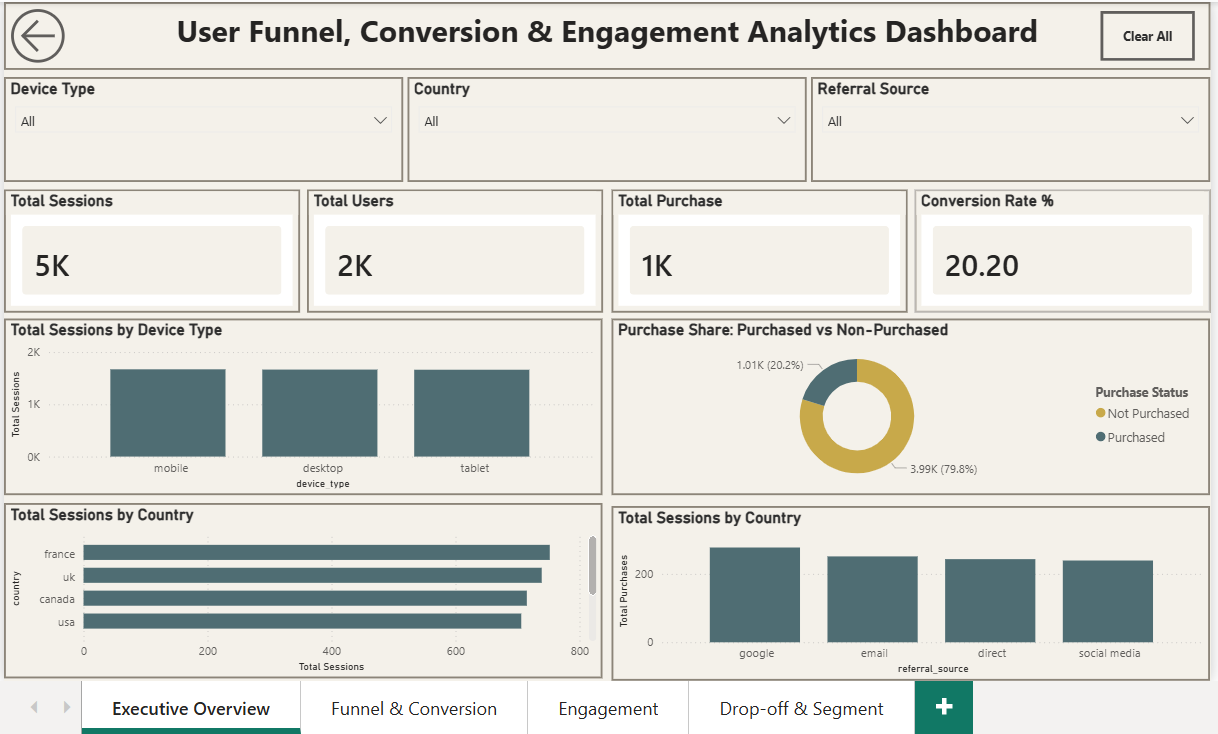

The page's visual inventory and layout, read from the dashboard file:
{"tool":"powerbi","page":{"name":"Executive Overview","canvas":[1280,720],"ordinal":0},"visuals":[{"type":"textbox","box":[0,0,1279.4,71.8],"z":0},{"type":"slicer","title":"Device Type","fields":{"Values":["session_master.device_type"]},"box":[0,79.4,423.3,111.5],"z":1000},{"type":"slicer","title":"Referral Source","fields":{"Values":["session_master.referral_source"]},"box":[856.1,79.4,423.3,111.5],"z":2000},{"type":"slicer","title":"Country","fields":{"Values":["session_master.country"]},"box":[427.1,79.4,423.3,111.5],"z":3000},{"type":"cardVisual","title":"Total Sessions","fields":{"Data":["session_master.Total Sessions"]},"box":[0,198.4,313.7,130.4],"z":4000},{"type":"cardVisual","title":"Conversion Rate %","fields":{"Data":["session_master.Conversion Rate %"]},"box":[965.7,198.4,313.7,130.4],"z":5000},{"type":"cardVisual","title":"Total Purchase","fields":{"Data":["session_master.Total Purchases"]},"box":[644.4,198.4,313.7,130.4],"z":6000},{"type":"cardVisual","title":"Total Users","fields":{"Data":["session_master.Total Users"]},"box":[321.3,198.4,313.7,130.4],"z":7000},{"type":"clusteredColumnChart","title":"Total Sessions by Device Type","fields":{"Category":["session_master.device_type"],"Y":["session_master.Total Sessions"]},"box":[0,336.4,635,187.1],"z":8000},{"type":"clusteredBarChart","title":"Total Sessions by Country","fields":{"Y":["session_master.Total Sessions"],"Category":["session_master.country"]},"box":[0,531,635,186],"z":9000},{"type":"donutChart","title":"Purchase Share: Purchased vs Non-Purchased","fields":{"Category":["session_master.Purchase Status"],"Y":["CountNonNull(session_master.session_id)"]},"box":[644.4,336.4,635,187.1],"z":10000},{"type":"clusteredColumnChart","title":"Total Sessions by Country","fields":{"Category":["session_master.referral_source"],"Y":["session_master.Total Purchases"]},"box":[644.4,534.8,635,185.2],"z":11000},{"type":"actionButton","box":[0,0,75.6,71.8],"z":12000},{"type":"actionButton","box":[1162.2,9.4,100.2,52.9],"z":13000}]}

Visuals, with their boxes on the page's 1280x720 design canvas (x1, y1, x2, y2). These are canvas units, not pixel positions in the 1218x734 screenshot, which may show the page scaled, cropped or inside an application window:
textbox: [0, 0, 1279, 72]
"Device Type" slicer: [0, 79, 423, 191]
"Referral Source" slicer: [856, 79, 1279, 191]
"Country" slicer: [427, 79, 850, 191]
"Total Sessions" cardVisual: [0, 198, 314, 329]
"Conversion Rate %" cardVisual: [966, 198, 1279, 329]
"Total Purchase" cardVisual: [644, 198, 958, 329]
"Total Users" cardVisual: [321, 198, 635, 329]
"Total Sessions by Device Type" clusteredColumnChart: [0, 336, 635, 524]
"Total Sessions by Country" clusteredBarChart: [0, 531, 635, 717]
"Purchase Share: Purchased vs Non-Purchased" donutChart: [644, 336, 1279, 524]
"Total Sessions by Country" clusteredColumnChart: [644, 535, 1279, 720]
actionButton: [0, 0, 76, 72]
actionButton: [1162, 9, 1262, 62]
